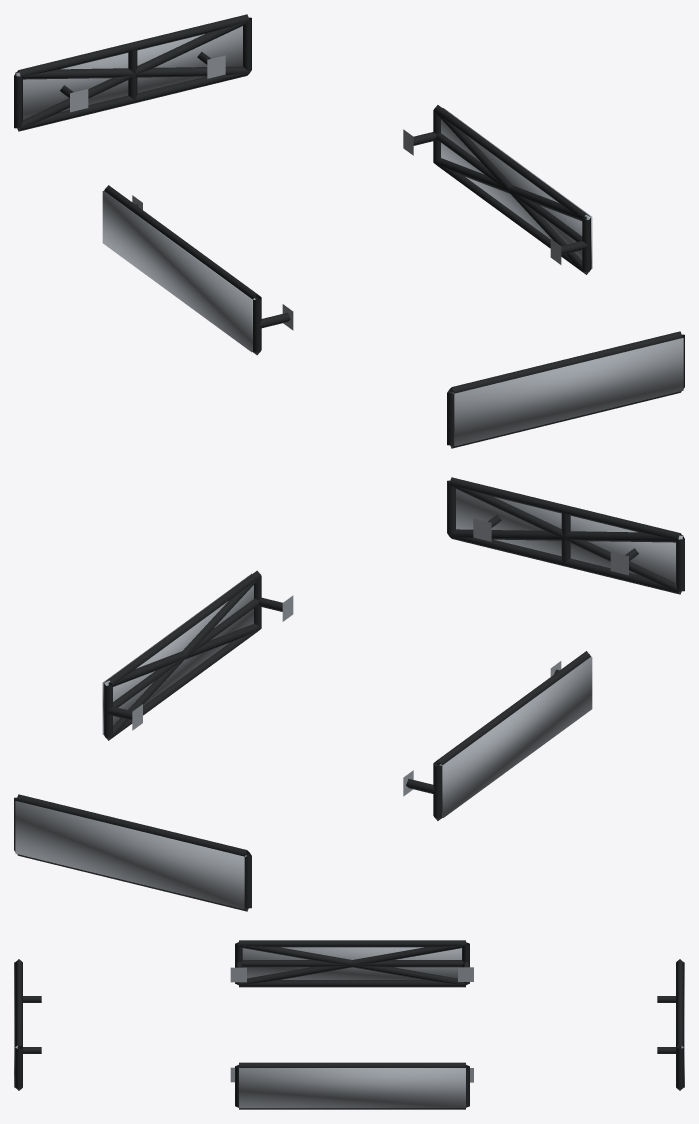
File: hoshino_prumo_protecao.glb
3 views of the same model, one above another, from view 1: azimuth 30°, elevation 25°; view 2: azimuth 150°, elevation 25°; view 3: azimuth 270°, elevation 25° (orthographic). The views are drawn at different scales.
Parts seen in each view (by area): view 1: Protection_front_Level3_Details, Protection_left_Level3_Details, Protection_rear_Level1_Details, Protection_rear_Level3_Details, Protection_right_Level1_Details, Protection_rear_Level2_Details, Protection_right_Level2_Details, Protection_right_Level3_Details, Protection_front_Level1_Details, Protection_left_Level1_Details; view 2: Protection_rear_Level3_Details, Protection_left_Level3_Details, Protection_front_Level1_Details, Protection_front_Level3_Details, Protection_right_Level1_Details, Protection_front_Level2_Details, Protection_right_Level2_Details, Protection_right_Level3_Details, Protection_rear_Level1_Details, Protection_left_Level1_Details; view 3: Protection_right_Level3_Details, Protection_left_Level2_Details, Protection_left_Level1_Details, Protection_left_Level3_Details, Protection_right_Level1_Details, Protection_rear_Level1_Details, Protection_front_Level1_Details.
Part boxes in pixels (x1,y1,x2,y2): Protection_front_Level3_Details: (452,338,683,446); Protection_left_Level3_Details: (102,191,255,352); Protection_rear_Level1_Details: (14,14,251,131); Protection_rear_Level3_Details: (15,26,242,119); Protection_right_Level1_Details: (403,105,590,274); Protection_rear_Level2_Details: (16,21,249,130); Protection_right_Level2_Details: (433,111,590,274); Protection_right_Level3_Details: (441,108,592,269); Protection_front_Level1_Details: (447,331,684,448); Protection_left_Level1_Details: (104,185,293,355); Protection_rear_Level3_Details: (15,801,246,909); Protection_left_Level3_Details: (439,656,592,817); Protection_front_Level1_Details: (447,477,684,594); Protection_front_Level3_Details: (456,489,683,582); Protection_right_Level1_Details: (104,570,293,740); Protection_front_Level2_Details: (449,484,682,593); Protection_right_Level2_Details: (105,576,261,739); Protection_right_Level3_Details: (102,573,253,734); Protection_rear_Level1_Details: (14,794,251,911); Protection_left_Level1_Details: (403,651,590,820); Protection_right_Level3_Details: (239,1068,465,1108); Protection_left_Level2_Details: (238,942,466,985); Protection_left_Level1_Details: (230,940,473,987); Protection_left_Level3_Details: (242,947,461,979); Protection_right_Level1_Details: (230,1062,473,1109); Protection_rear_Level1_Details: (657,959,683,1090); Protection_front_Level1_Details: (15,959,41,1090).
Bounding box in the file's own units: 2.05 × 0.354 × 4.58.
1 material, 1 textured.
